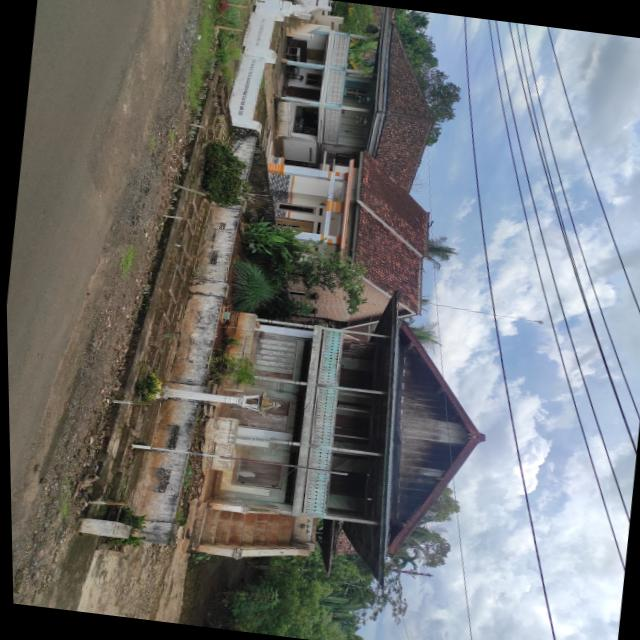Atap: (321, 289, 485, 587)
Tangga: (199, 507, 293, 544)
Tembok Bangunan: (326, 355, 388, 518)
jendela: (236, 457, 283, 488), (339, 367, 373, 389)
